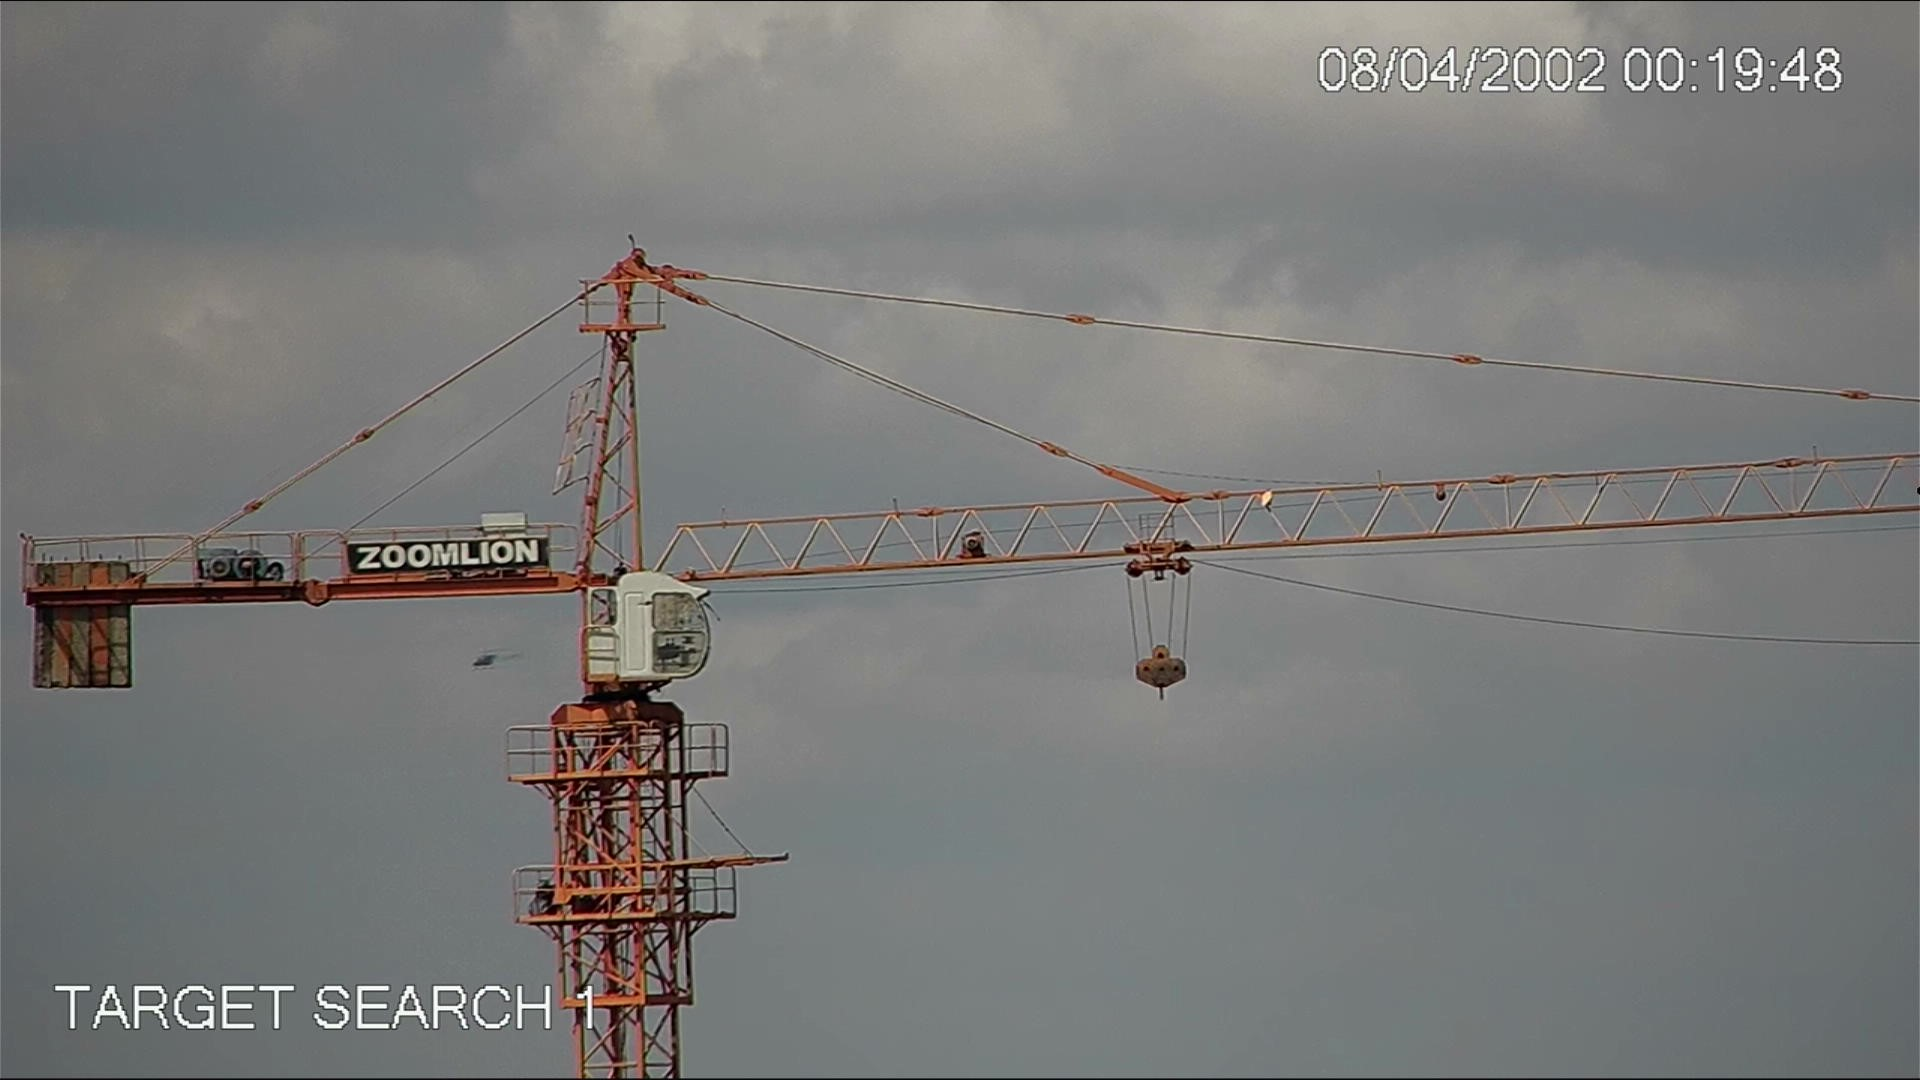SU_30: (469, 642, 525, 673)
